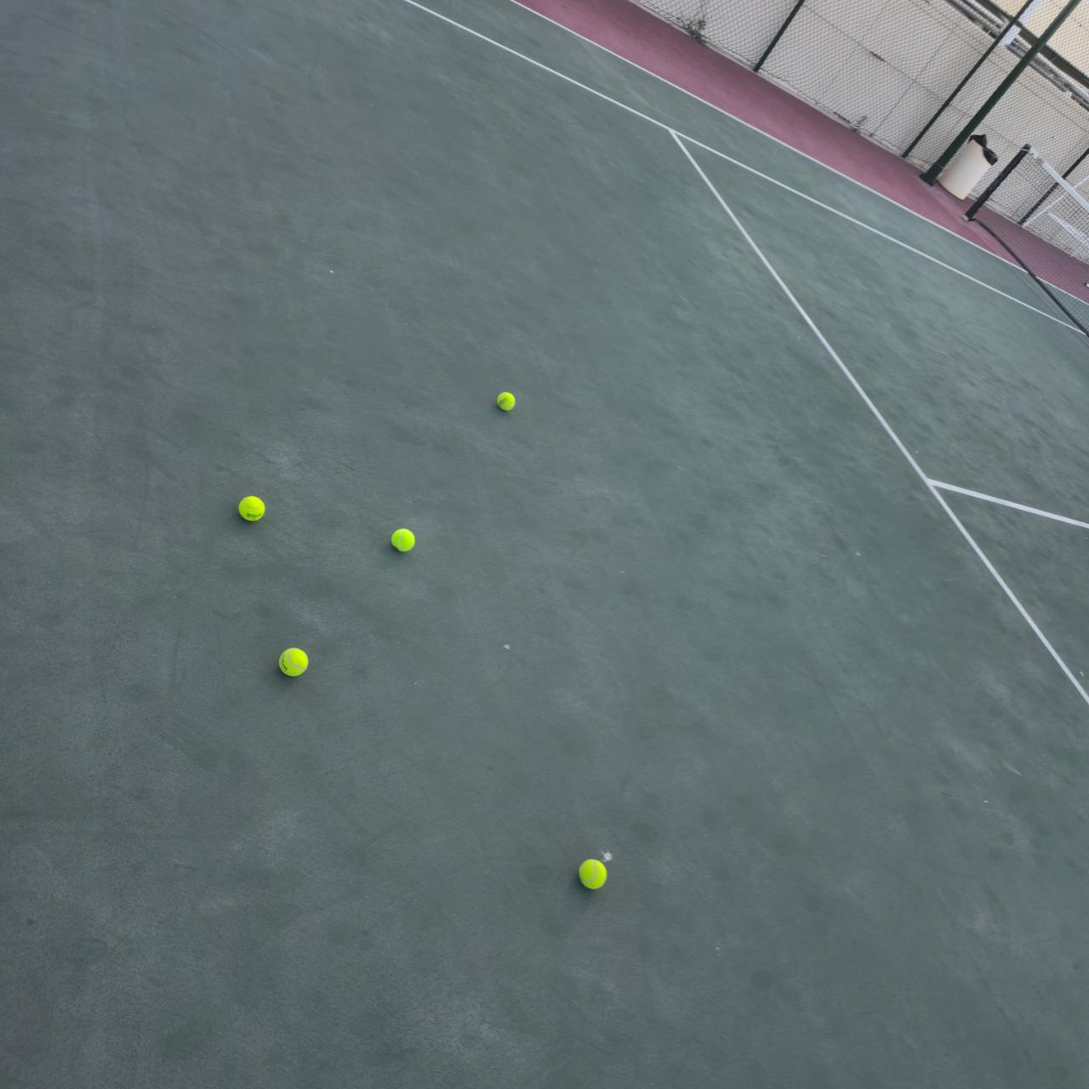tennis-ball: (277, 645, 310, 677), (576, 856, 607, 890), (236, 493, 266, 522), (389, 526, 416, 553), (494, 389, 516, 412)
